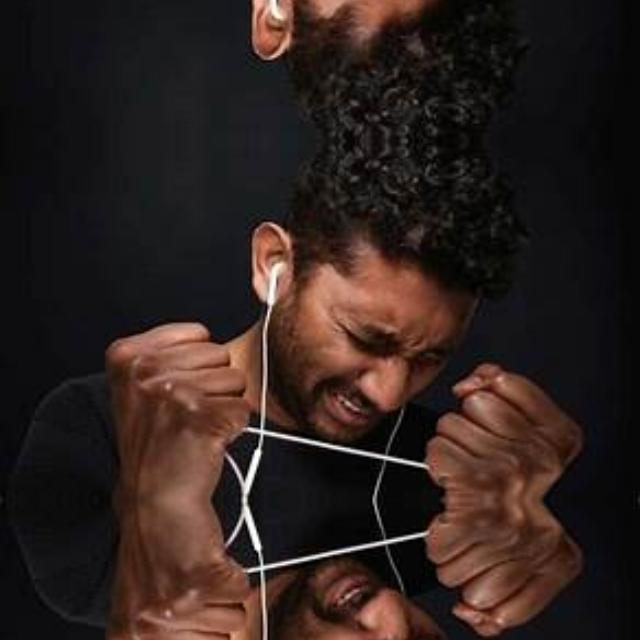person: (98, 140, 600, 500), (98, 499, 600, 640), (98, 0, 600, 139)
